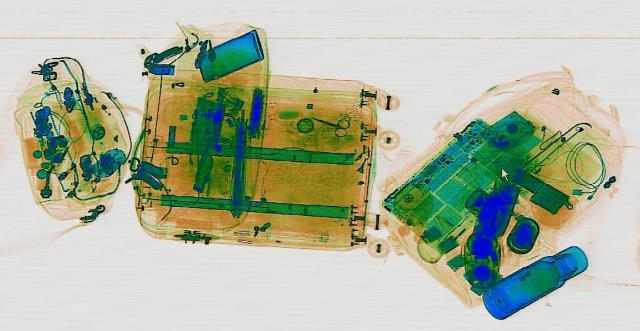Scissors: (301, 110, 359, 135)
